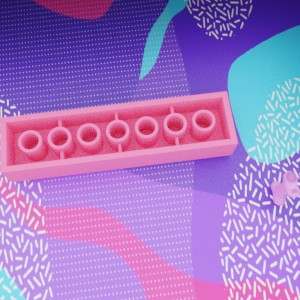lego: (0, 91, 238, 182), (270, 171, 299, 205)
